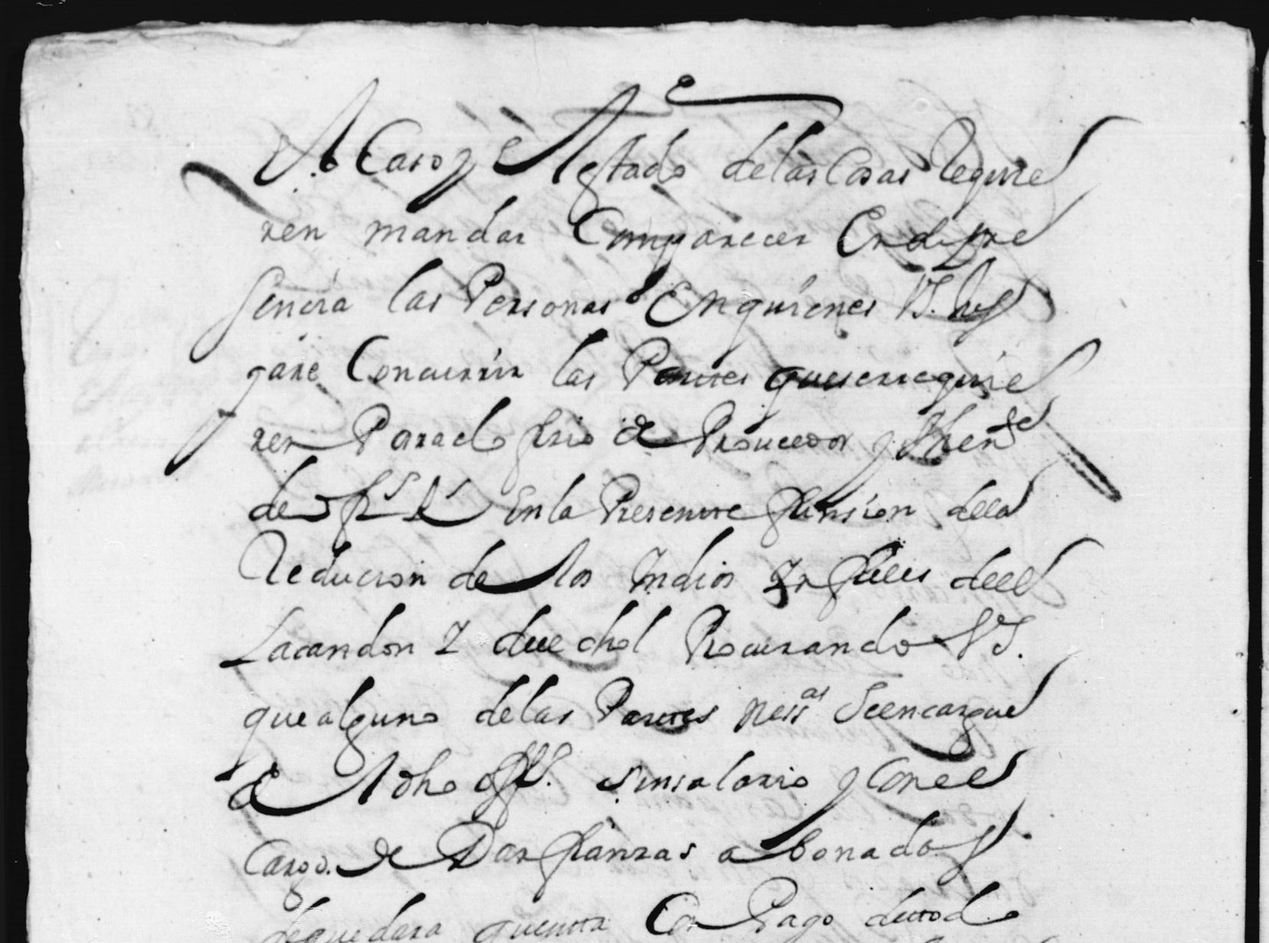lacandon: (219, 602, 414, 668)
